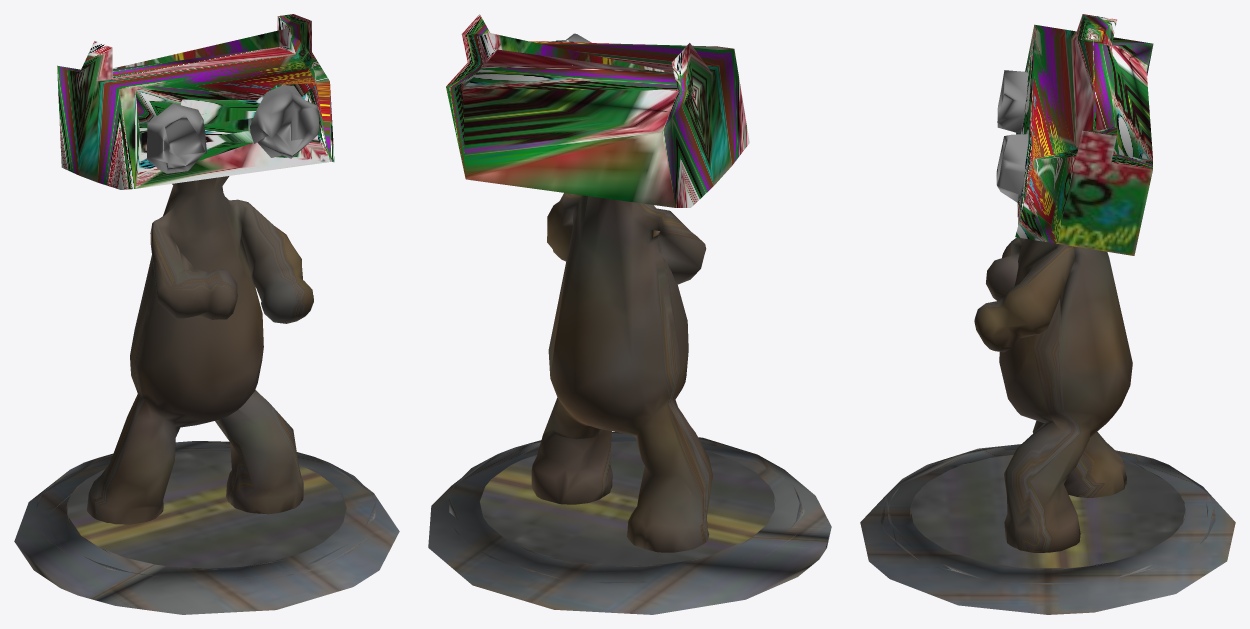
3 views of the same model, side by side, from view 1: azimuth 30°, elevation 25°; view 2: azimuth 150°, elevation 25°; view 3: azimuth 270°, elevation 25° (orthographic). The views are drawn at different scales.
Bounding box in the file's own units: 1.45 × 2.04 × 1.43.
Materials: 5 (4 with a texture image).
